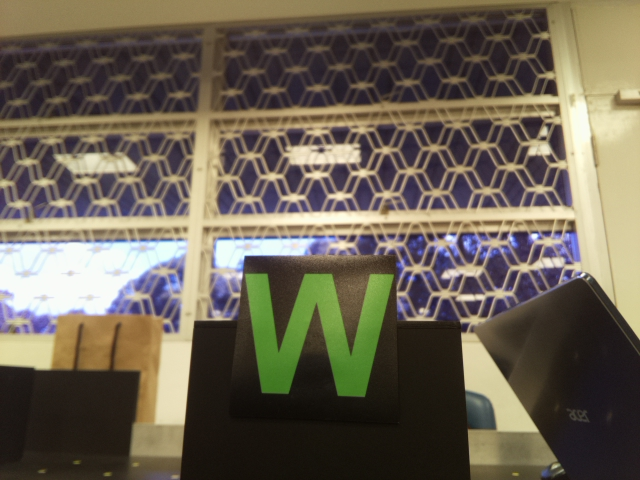w: (242, 270, 399, 407)
